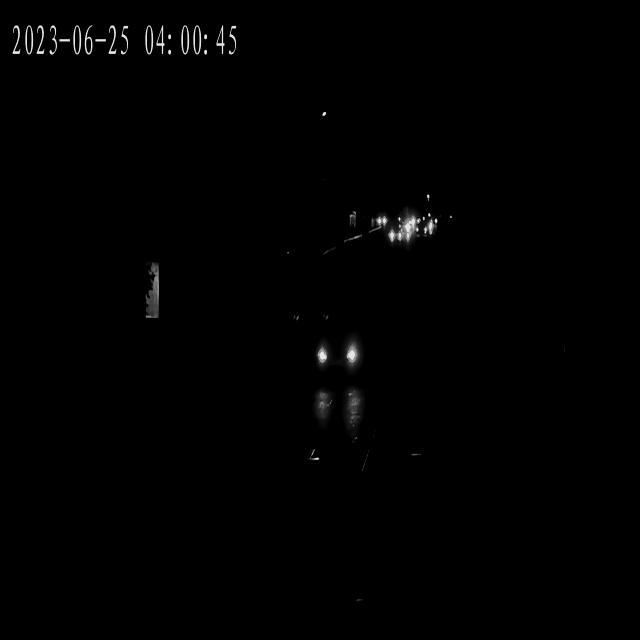Car: (308, 320, 368, 380), (384, 226, 406, 244), (386, 229, 408, 246)
